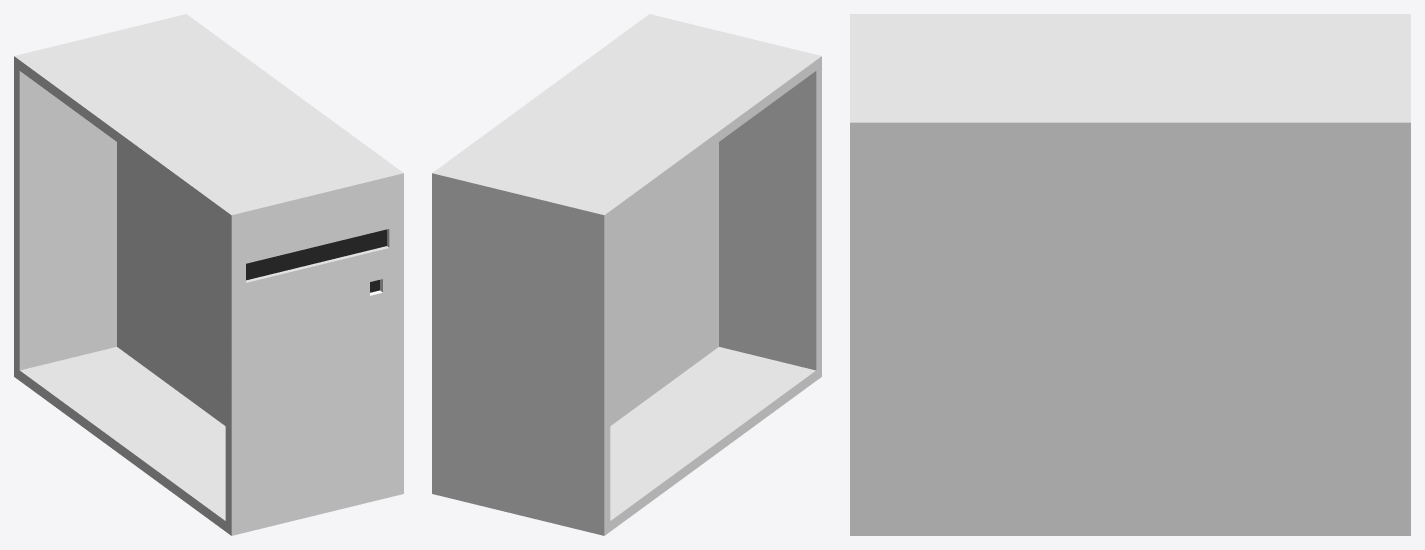
Rendered from Computer_1.fbx.
The picture shows the model from 3 angles, left to right: view 1: azimuth 30°, elevation 25°; view 2: azimuth 150°, elevation 25°; view 3: azimuth 270°, elevation 25°; orthographic projection. The views are drawn at different scales.
Parts seen in each view (by area): view 1: Computer_1; view 2: Computer_1; view 3: Computer_1.
Boxes of the visible parts, x1,y1,x2,y2 form: Computer_1: (14, 14, 403, 535); Computer_1: (432, 14, 821, 535); Computer_1: (850, 14, 1410, 535).
Bounding box in the file's own units: 0.179 × 0.318 × 0.391.
